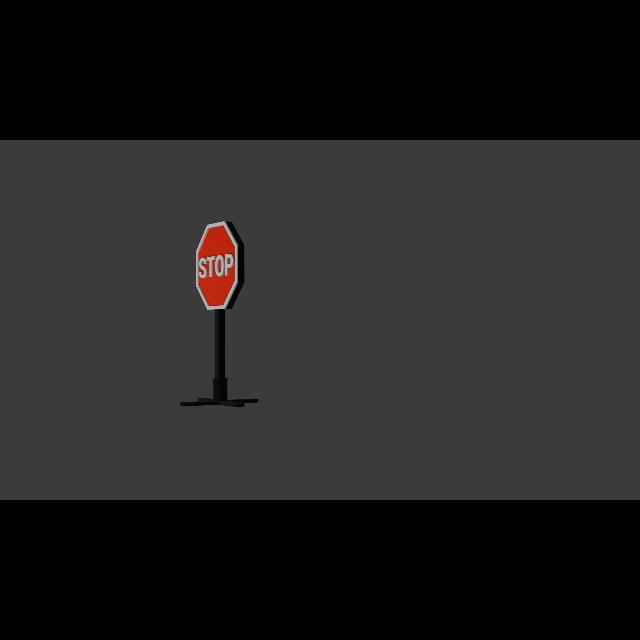sign_stop: (197, 222, 243, 314)
